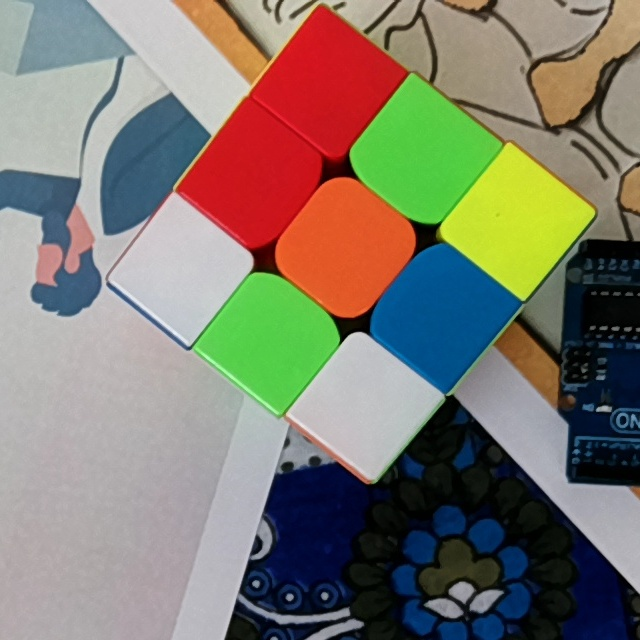tile: (381, 109, 463, 195), (326, 366, 406, 447), (304, 208, 385, 286), (404, 273, 480, 355), (480, 183, 558, 261), (216, 137, 292, 217), (142, 232, 221, 308), (290, 45, 370, 119), (233, 302, 309, 377)
